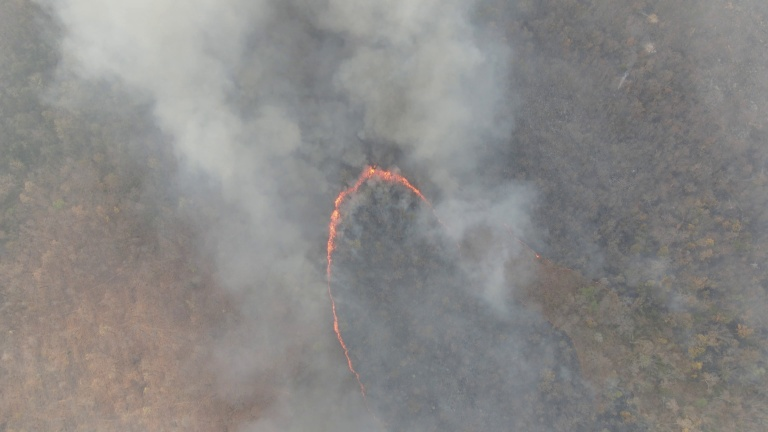fire: (320, 156, 460, 405), (529, 248, 550, 266)
smoke: (61, 2, 323, 401), (335, 3, 545, 300)
